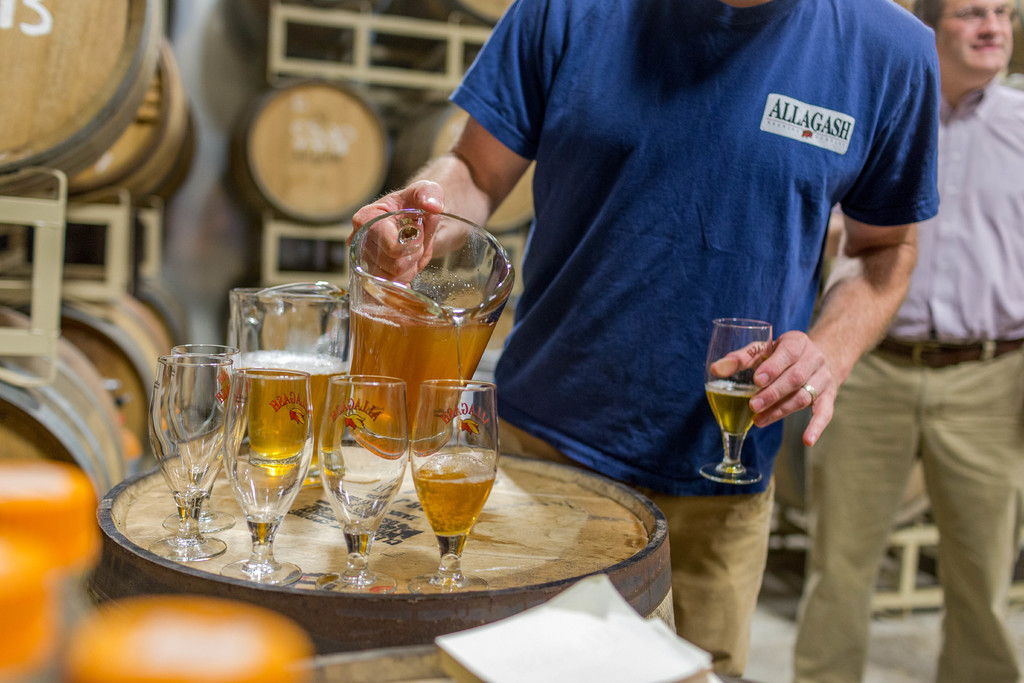Beer: (346, 294, 486, 459), (256, 355, 336, 502), (413, 449, 492, 538), (710, 375, 764, 435)
